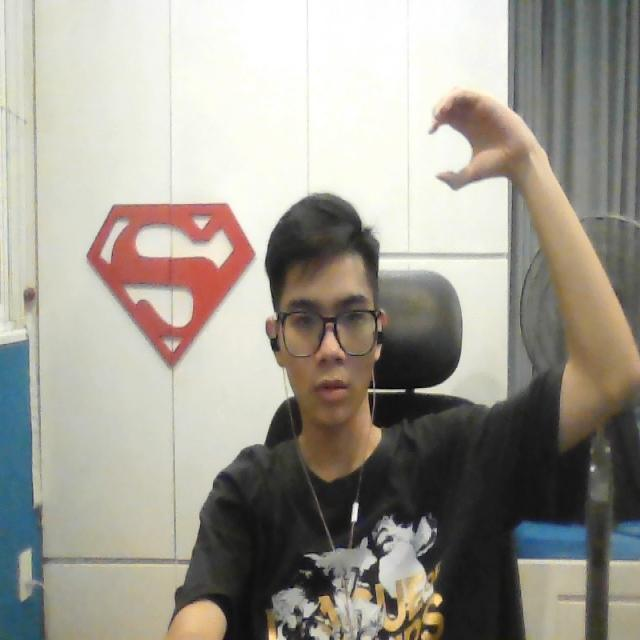C: (426, 78, 515, 194)
